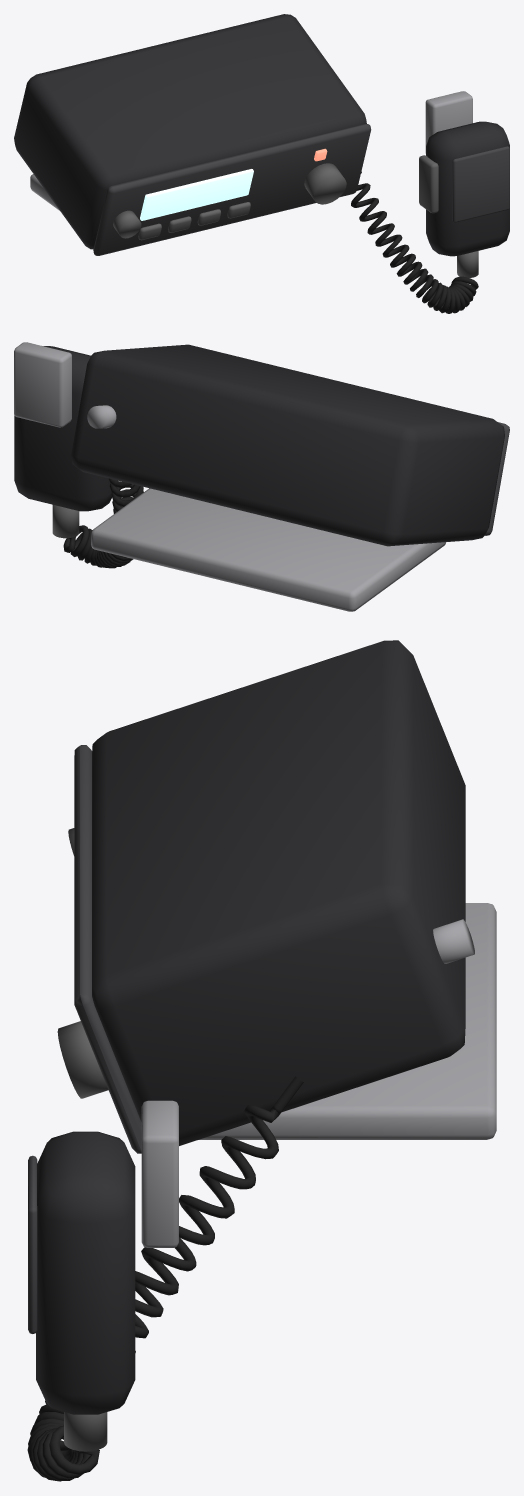
The model's file is PatrolCar_Radio.fbx.
3 renders of one model, top to bottom at view 1: azimuth 30°, elevation 25°; view 2: azimuth 150°, elevation 25°; view 3: azimuth 270°, elevation 25°, orthographic. The views are drawn at different scales.
Visible parts, largest first — view 1: Radio_Body, Radio_Faceplate, Mic_Body, Mic_Cord, Mic_Grille, Radio_Display, Mic_Hook, Radio_Knob_Vol, Mic_PTT, Radio_Knob_Ch, Mic_Strain; view 2: Radio_Body, Radio_Bracket, Mic_Body, Mic_Hook, Mic_Cord, Mic_Strain, Radio_Antenna_Plug, Radio_Faceplate; view 3: Radio_Body, Mic_Body, Radio_Bracket, Mic_Cord, Radio_Faceplate, Mic_Hook, Radio_Knob_Vol, Mic_Grille, Mic_Strain, Radio_Antenna_Plug.
Boxes of the visible parts, x1,y1,x2,y2 form: Radio_Body: (14, 14, 366, 249); Radio_Faceplate: (93, 124, 371, 255); Mic_Body: (426, 121, 509, 256); Mic_Cord: (351, 171, 478, 313); Mic_Grille: (452, 146, 509, 222); Radio_Display: (140, 169, 253, 220); Mic_Hook: (425, 91, 472, 153); Radio_Knob_Vol: (304, 163, 346, 204); Mic_PTT: (419, 155, 438, 213); Radio_Knob_Ch: (113, 210, 141, 238); Mic_Strain: (457, 251, 478, 277); Radio_Body: (71, 344, 504, 546); Radio_Bracket: (91, 488, 446, 611); Mic_Body: (14, 346, 111, 511); Mic_Hook: (14, 342, 71, 427); Mic_Cord: (63, 478, 143, 568); Mic_Strain: (52, 505, 79, 538); Radio_Antenna_Plug: (87, 405, 116, 428); Radio_Faceplate: (485, 422, 509, 535); Radio_Body: (92, 640, 465, 1145); Mic_Body: (36, 1131, 135, 1414); Radio_Bracket: (199, 903, 496, 1139); Mic_Cord: (27, 1076, 303, 1481); Radio_Faceplate: (74, 745, 141, 1153); Mic_Hook: (141, 1100, 178, 1247); Radio_Knob_Vol: (57, 1021, 108, 1098); Mic_Grille: (28, 1155, 37, 1333); Mic_Strain: (64, 1412, 107, 1451); Radio_Antenna_Plug: (433, 919, 474, 963).
Bounding box in the file's own units: 0.2975 × 0.1811 × 0.1507.
